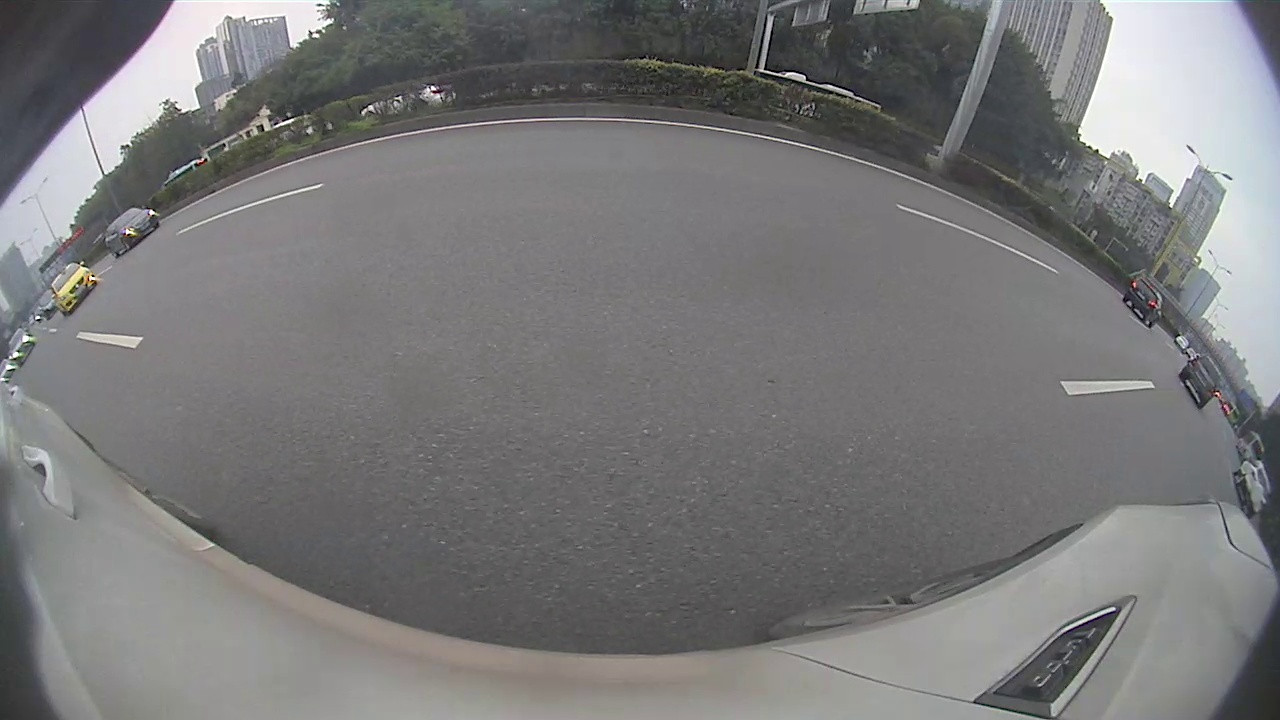car: (101, 204, 163, 260), (46, 260, 100, 318), (1177, 349, 1227, 409), (1123, 273, 1168, 330)
